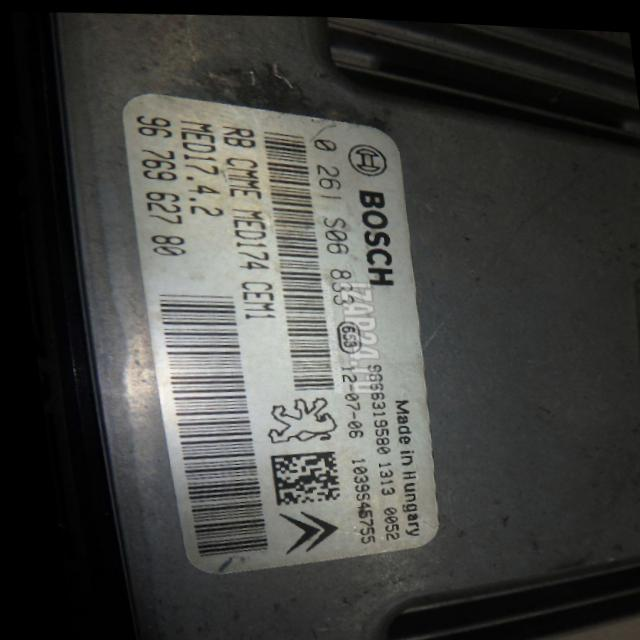datamatrix: (260, 446, 332, 506)
